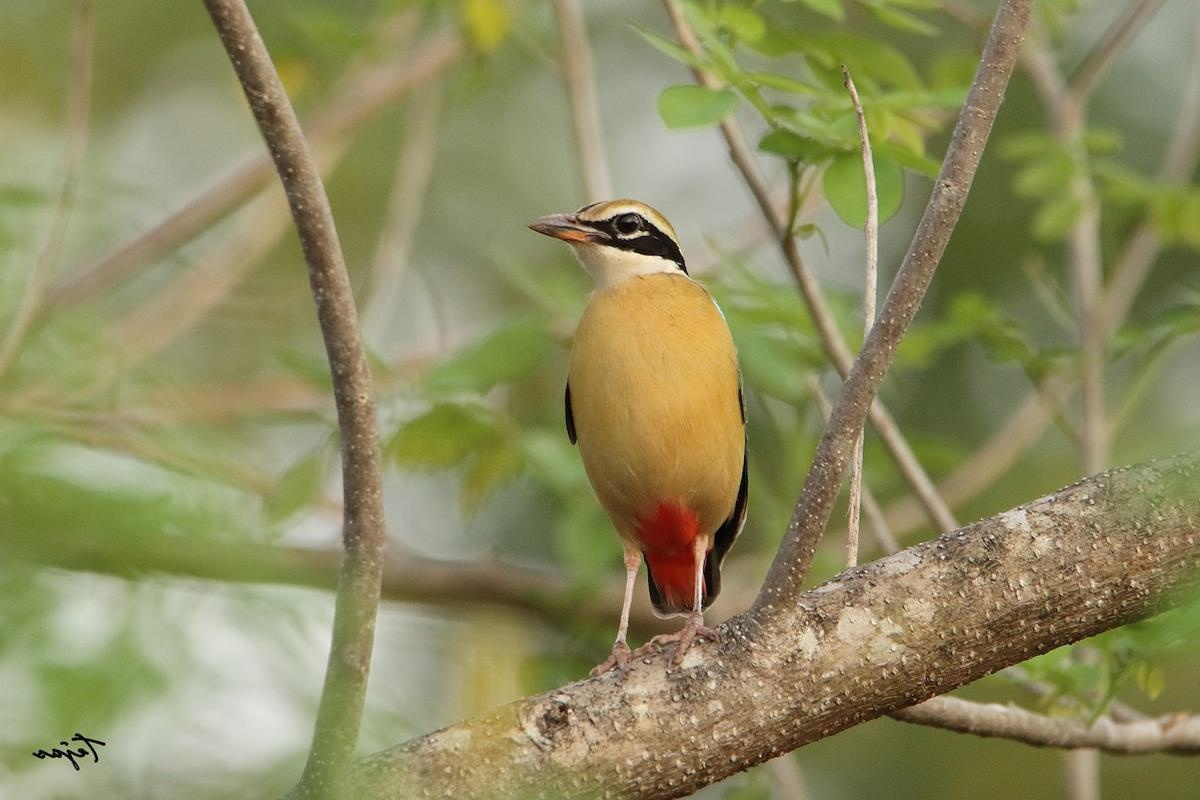pitta: (513, 178, 770, 666)
